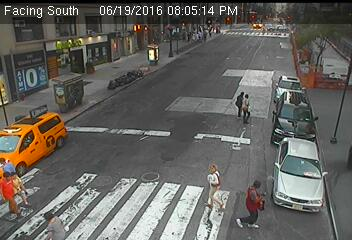neg: (302, 146, 326, 178), (87, 87, 111, 119), (105, 30, 126, 58), (97, 167, 116, 193), (321, 103, 339, 127), (155, 110, 173, 133), (26, 40, 41, 60), (262, 38, 274, 54), (198, 83, 209, 98), (165, 41, 175, 55), (192, 36, 201, 48), (280, 85, 289, 97), (83, 29, 92, 41), (157, 169, 164, 178), (325, 70, 330, 76)
pos: (234, 177, 273, 230), (195, 161, 230, 207), (1, 168, 28, 206), (37, 204, 62, 237), (234, 92, 258, 124), (231, 89, 250, 115)
